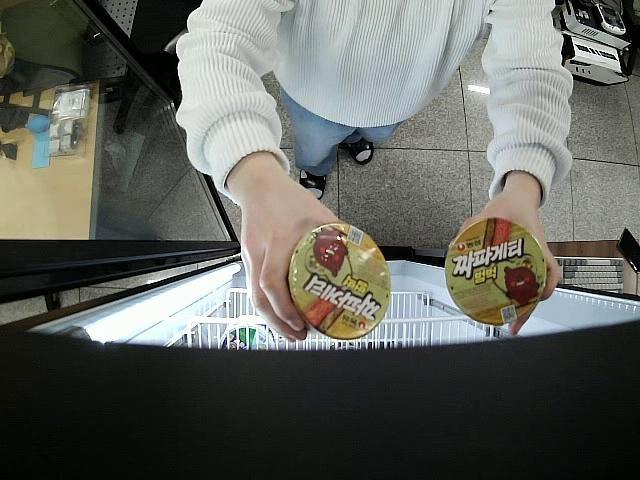04_chapagetti_S: (288, 224, 394, 338), (443, 218, 548, 326)
